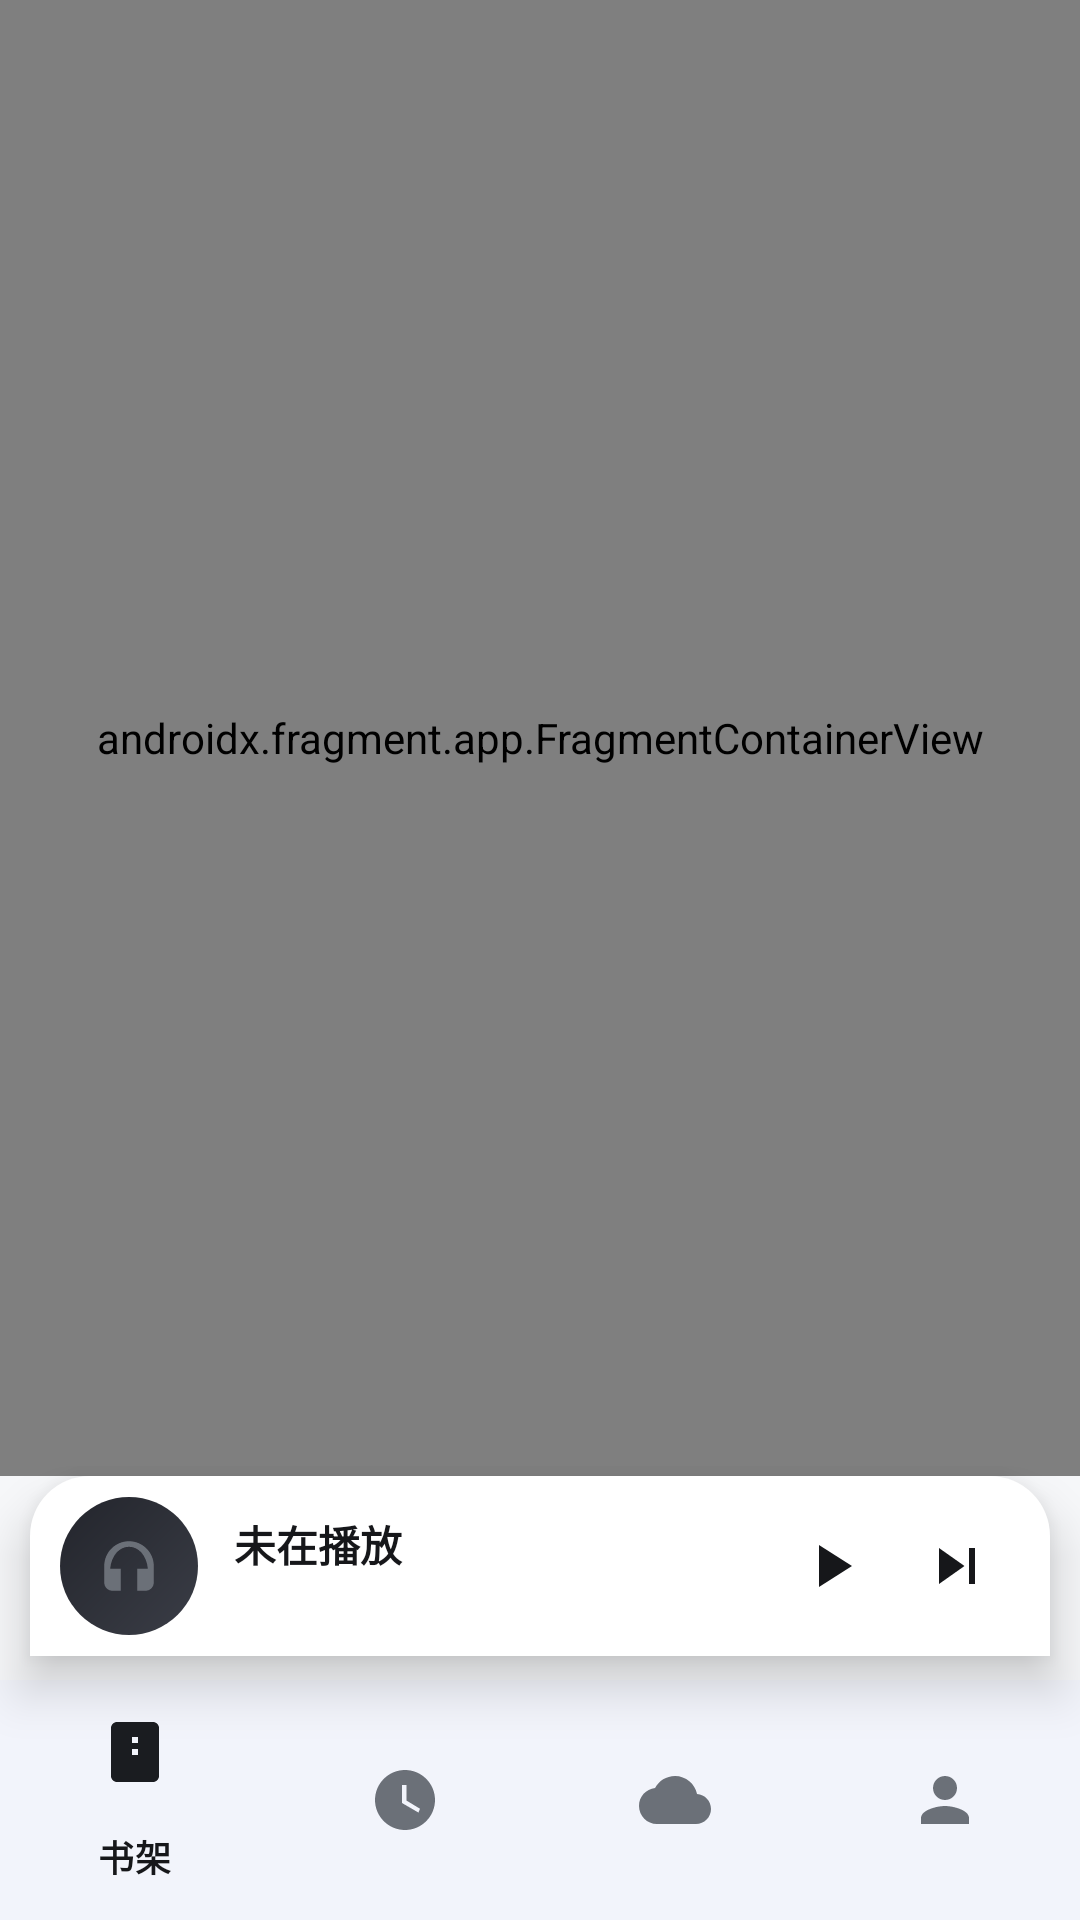

Screen size 1080 x 1920. Icon name, then its box in pixels as (x1=x1, y1=y1, x2=x2, y2=y2):
下一首: (x1=939, y1=1548, x2=975, y2=1584)
